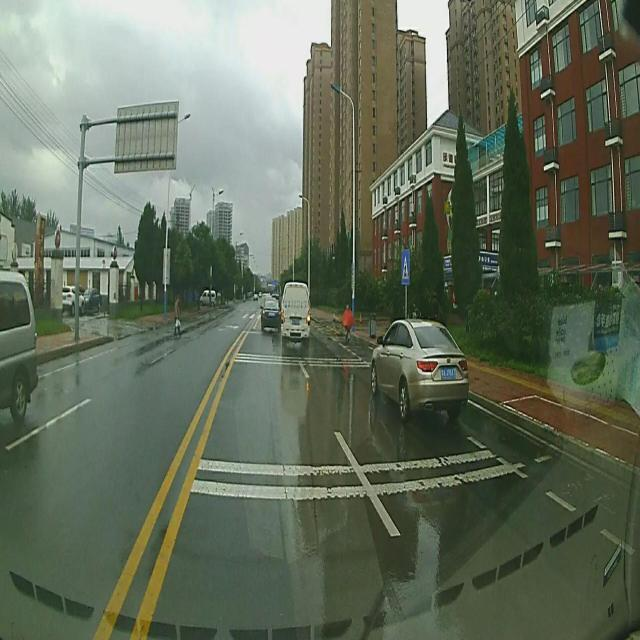car: (368, 318, 467, 411), (0, 267, 37, 424), (282, 275, 309, 345), (62, 277, 84, 325), (260, 293, 280, 335), (200, 291, 212, 307)
